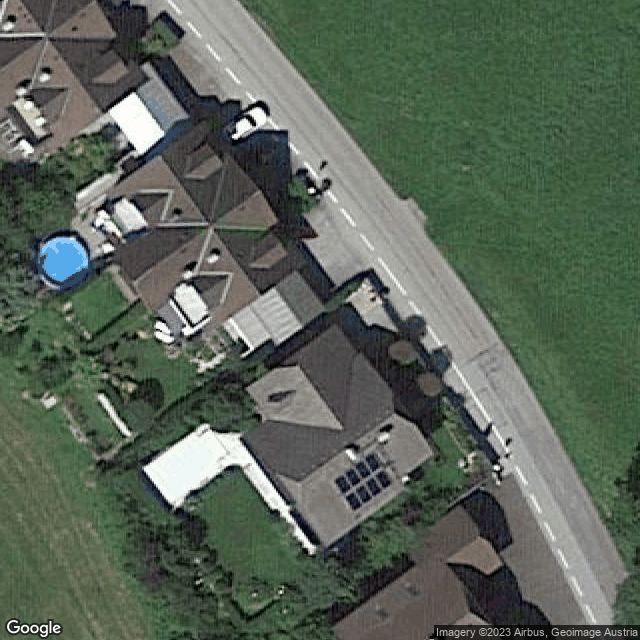dormer: (129, 193, 173, 230), (29, 89, 69, 125), (190, 275, 231, 309), (88, 52, 130, 85), (250, 232, 287, 267), (184, 146, 223, 178)
hip: (274, 478, 302, 512), (275, 348, 304, 370), (463, 589, 486, 616), (394, 397, 413, 423)
obstacles: (344, 446, 361, 463), (166, 211, 184, 225), (377, 431, 392, 446), (180, 268, 196, 282), (1, 21, 14, 34), (206, 254, 219, 266), (15, 88, 28, 98), (38, 73, 51, 83)
panels: (333, 451, 394, 513)
ridge: (160, 153, 261, 297), (134, 192, 258, 282), (21, 1, 104, 116), (1, 2, 95, 72), (301, 415, 394, 485), (299, 367, 344, 431), (428, 614, 467, 639), (445, 538, 481, 564)
roof: (105, 120, 307, 334), (245, 324, 434, 547), (1, 1, 149, 181), (332, 554, 505, 640), (402, 507, 502, 591)
valley: (28, 40, 48, 99), (212, 154, 228, 225), (345, 355, 357, 430), (196, 228, 215, 273), (267, 422, 345, 429), (47, 1, 56, 36), (215, 228, 272, 231), (48, 39, 121, 40), (159, 226, 212, 227)
